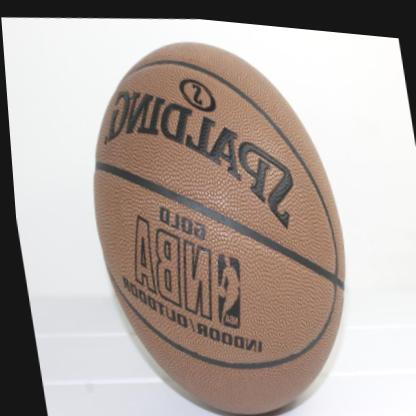basketball: (64, 16, 368, 416)
